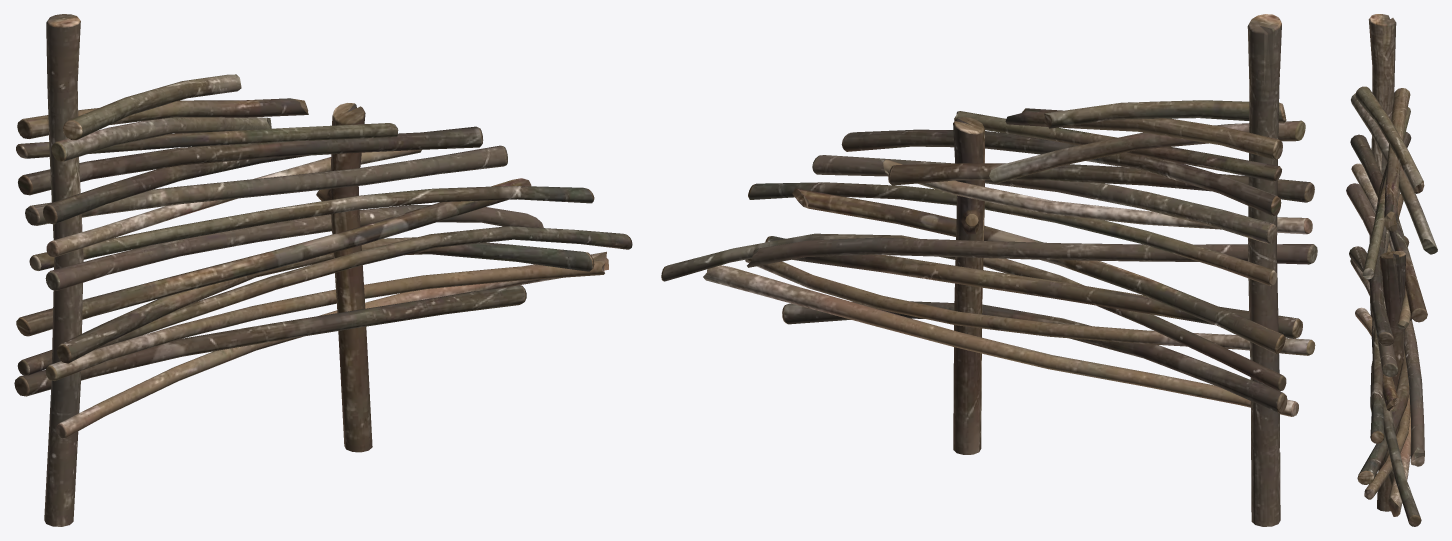
3 views of the same model, side by side, from view 1: azimuth 30°, elevation 25°; view 2: azimuth 150°, elevation 25°; view 3: azimuth 270°, elevation 25° (orthographic). The views are drawn at different scales.
Parts seen in each view (by area): view 1: SM_Wicker_Fence_01v4_LOD0; view 2: SM_Wicker_Fence_01v4_LOD0; view 3: SM_Wicker_Fence_01v4_LOD0.
Boxes of the visible parts, x1,y1,x2,y2 form: SM_Wicker_Fence_01v4_LOD0: [14, 14, 632, 526]; SM_Wicker_Fence_01v4_LOD0: [661, 14, 1317, 526]; SM_Wicker_Fence_01v4_LOD0: [1346, 14, 1437, 526].
Size of the model in its own units: 1.89 by 1.47 by 0.3223.
Materials: 1 (1 with a texture image).
